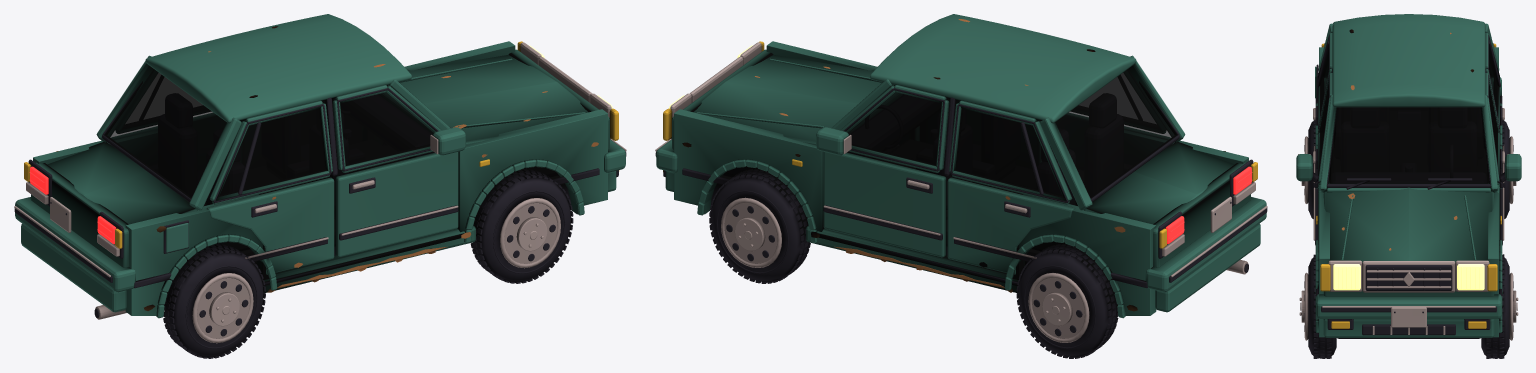
3 views of the same model, side by side, from view 1: azimuth 30°, elevation 25°; view 2: azimuth 150°, elevation 25°; view 3: azimuth 270°, elevation 25° (orthographic). The views are drawn at different scales.
Parts seen in each view (by area): view 1: body_pal_backpackTeal, body_pal_uiDark, doorR_pal_backpackTeal, doorRR_pal_backpackTeal, body_pal_asphalt, wheelRR_pal_uiDark, wheelFR_pal_uiDark, doorRR_pal_asphalt, doorR_pal_asphalt, wheelRR_pal_sidewalk, wheelFR_pal_sidewalk, body_pal_sidewalk (+8 smaller); view 2: body_pal_backpackTeal, body_pal_uiDark, doorL_pal_backpackTeal, doorRL_pal_backpackTeal, body_pal_asphalt, wheelRL_pal_uiDark, wheelFL_pal_uiDark, doorRL_pal_asphalt, doorL_pal_asphalt, wheelRL_pal_sidewalk, wheelFL_pal_sidewalk, body_pal_sidewalk (+8 smaller); view 3: body_pal_backpackTeal, body_pal_uiDark, body_pal_asphalt, body_pal_sidewalk, wheelFL_pal_uiDark, wheelFR_pal_uiDark, doorL_pal_backpackTeal, doorR_pal_backpackTeal, lightsFront_pal_schoolBusYellow, lampHeadL_emi_windowGlow, lampHeadR_emi_windowGlow, doorL_pal_uiDark (+17 smaller).
Part boxes in pixels (box(x1,y1,x2,y2)): body_pal_backpackTeal: box(15, 14, 625, 318); body_pal_uiDark: box(14, 81, 626, 317); doorR_pal_backpackTeal: box(332, 85, 465, 257); doorRR_pal_backpackTeal: box(206, 100, 334, 274); body_pal_asphalt: box(107, 69, 387, 196); wheelRR_pal_uiDark: box(163, 244, 265, 358); wheelFR_pal_uiDark: box(470, 169, 573, 283); doorRR_pal_asphalt: box(219, 108, 326, 196); doorR_pal_asphalt: box(340, 92, 433, 165); wheelRR_pal_sidewalk: box(192, 273, 253, 343); wheelFR_pal_sidewalk: box(500, 198, 560, 268); body_pal_sidewalk: box(14, 42, 626, 319); body_pal_backpackTeal: box(656, 14, 1266, 318); body_pal_uiDark: box(655, 81, 1267, 304); doorL_pal_backpackTeal: box(816, 85, 949, 257); doorRL_pal_backpackTeal: box(947, 100, 1075, 274); body_pal_asphalt: box(893, 69, 1174, 196); wheelRL_pal_uiDark: box(1016, 244, 1118, 358); wheelFL_pal_uiDark: box(709, 169, 810, 283); doorRL_pal_asphalt: box(955, 108, 1062, 195); doorL_pal_asphalt: box(848, 92, 941, 165); wheelRL_pal_sidewalk: box(1028, 273, 1089, 342); wheelFL_pal_sidewalk: box(721, 197, 781, 267); body_pal_sidewalk: box(655, 42, 1267, 277); body_pal_backpackTeal: box(1315, 14, 1502, 337); body_pal_uiDark: box(1315, 43, 1502, 338); body_pal_asphalt: box(1330, 107, 1487, 183); body_pal_sidewalk: box(1322, 260, 1495, 334); wheelFL_pal_uiDark: box(1481, 254, 1513, 358); wheelFR_pal_uiDark: box(1304, 254, 1336, 358); doorL_pal_backpackTeal: box(1485, 73, 1521, 239); doorR_pal_backpackTeal: box(1296, 73, 1332, 239); lightsFront_pal_schoolBusYellow: box(1320, 264, 1497, 328); lampHeadL_emi_windowGlow: box(1457, 264, 1484, 290); lampHeadR_emi_windowGlow: box(1333, 264, 1360, 290); doorL_pal_uiDark: box(1488, 75, 1505, 245).
Size of the model in its own units: 4.4 by 1.9 by 1.8.
